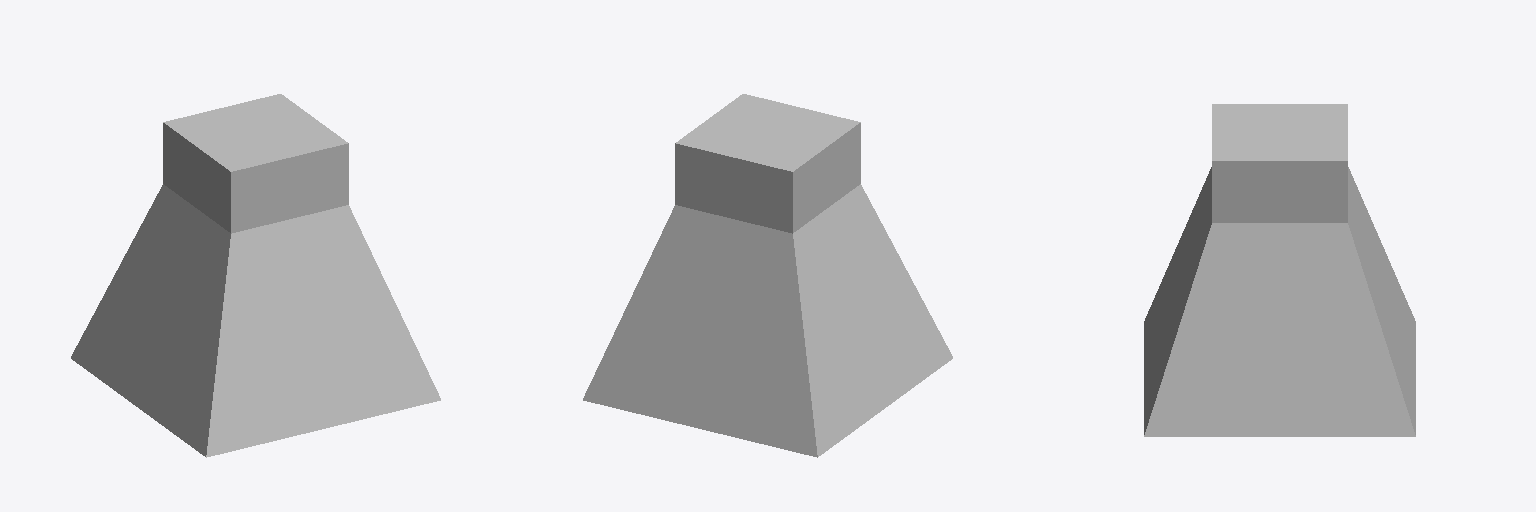
The model's file is difurnace_extension.obj.
3 views of the same model, side by side, from view 1: azimuth 30°, elevation 25°; view 2: azimuth 150°, elevation 25°; view 3: azimuth 270°, elevation 25° (orthographic).
Parts seen in each view (by area): view 1: Side, Top; view 2: Side, Top; view 3: Side, Top.
Part boxes in pixels (x1,y1,x2,y2): Side: (71, 123, 440, 457); Top: (163, 94, 347, 171); Side: (583, 123, 952, 457); Top: (676, 94, 860, 171); Side: (1144, 161, 1415, 436); Top: (1212, 104, 1347, 160).
Size of the model in its own units: 1 by 1 by 1.